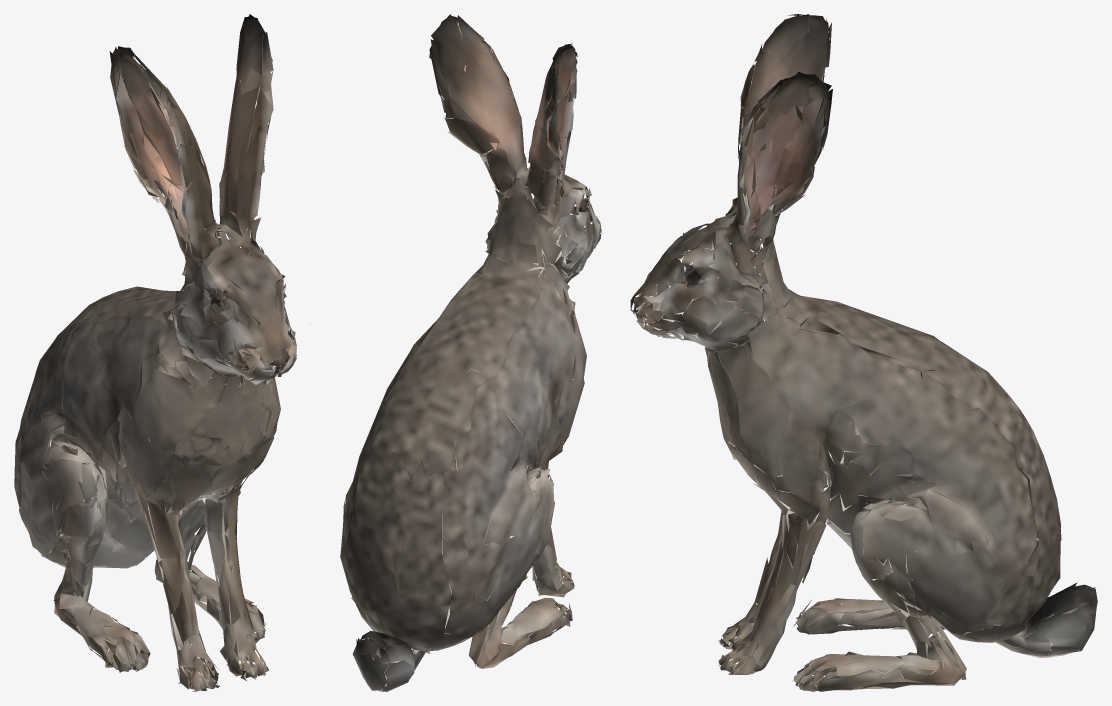
Rendered from jackrabbit.glb.
The picture shows the model from 3 angles, left to right: view 1: azimuth 30°, elevation 25°; view 2: azimuth 150°, elevation 25°; view 3: azimuth 270°, elevation 25°; orthographic projection. The views are drawn at different scales.
Parts seen in each view (by area): view 1: LO.001; view 2: LO.001; view 3: LO.001.
Boxes of the visible parts, bbox=[...] form: LO.001: bbox=[14, 14, 310, 691]; LO.001: bbox=[340, 14, 601, 691]; LO.001: bbox=[630, 14, 1097, 691].
Bounding box in the file's own units: 0.5987 × 1.91 × 1.31.
1 material, 1 textured.
